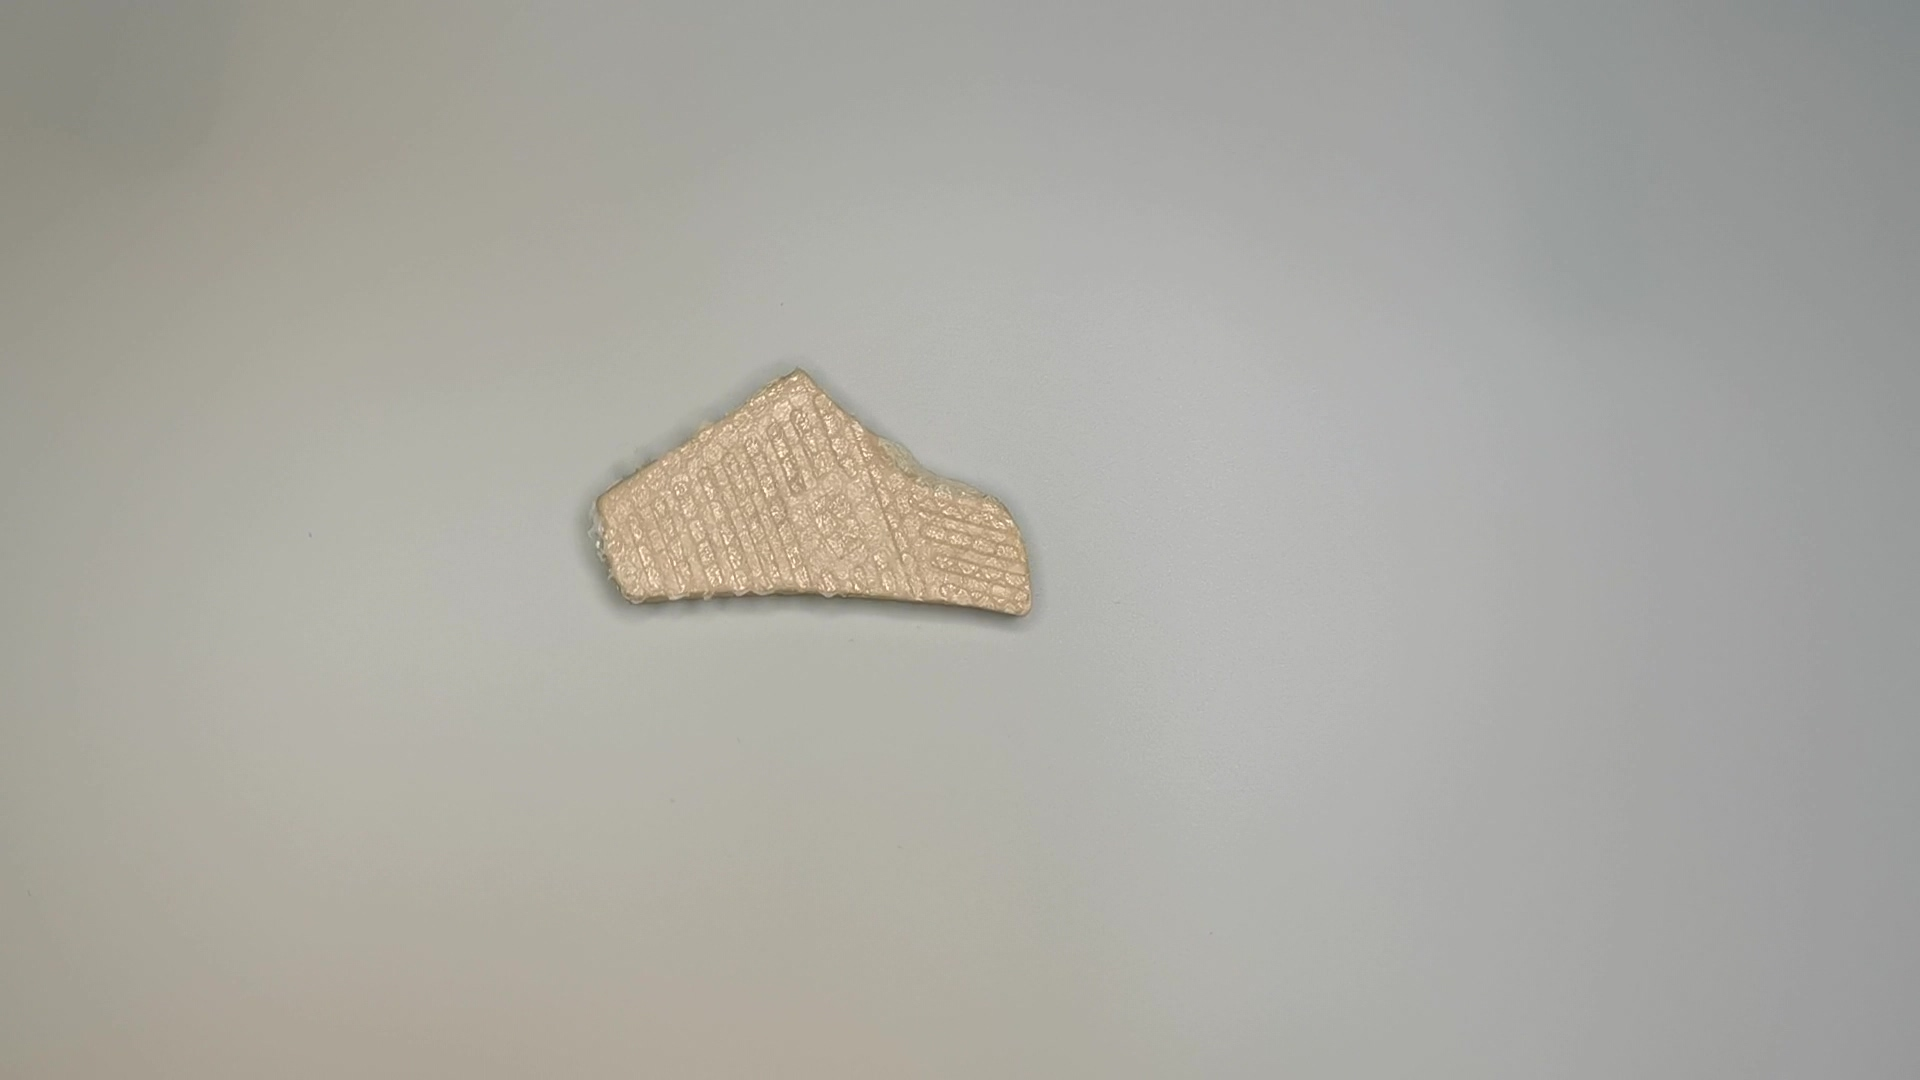ceramic: (582, 361, 1038, 634)
